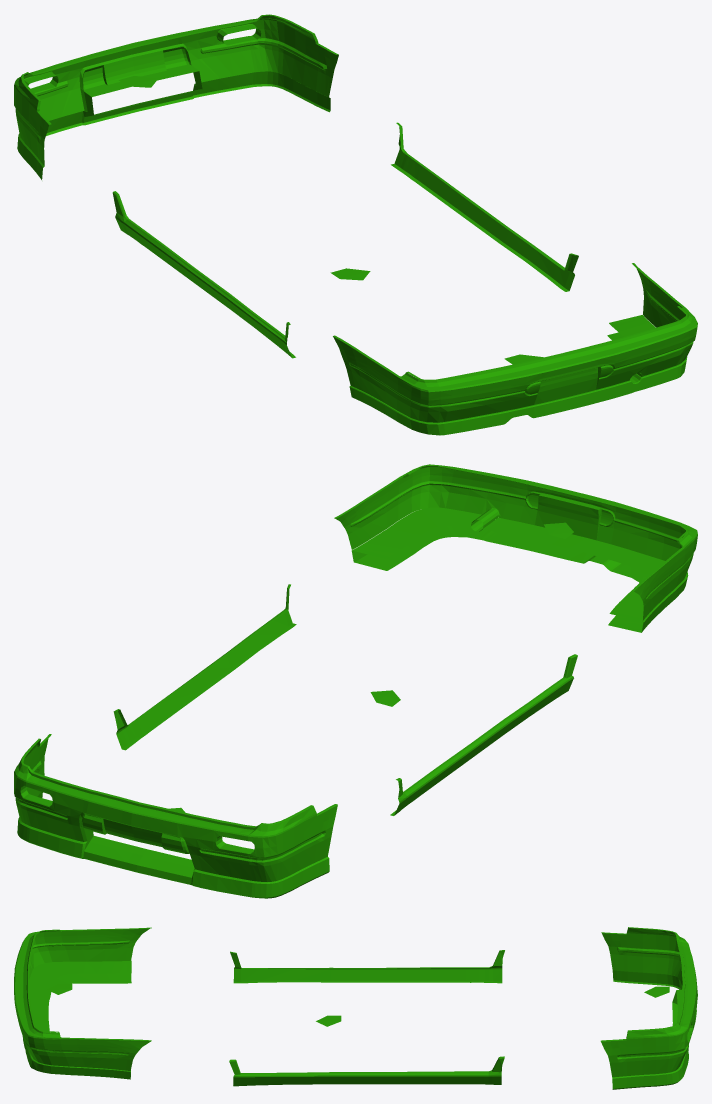
The picture shows the model from 3 angles, top to bottom: view 1: azimuth 30°, elevation 25°; view 2: azimuth 150°, elevation 25°; view 3: azimuth 270°, elevation 25°; orthographic projection. The views are drawn at different scales.
Visible parts, largest first — view 1: Mesh.030_Mesh.006_rbumper.001_g13m1.001, Mesh.062_Mesh.009_bump_f_g14m1.001, Mesh.016_Mesh.013_skirt.001_g12m1.001; view 2: Mesh.030_Mesh.006_rbumper.001_g13m1.001, Mesh.062_Mesh.009_bump_f_g14m1.001, Mesh.016_Mesh.013_skirt.001_g12m1.001; view 3: Mesh.030_Mesh.006_rbumper.001_g13m1.001, Mesh.062_Mesh.009_bump_f_g14m1.001, Mesh.016_Mesh.013_skirt.001_g12m1.001.
Boxes of the visible parts, x1=… form: Mesh.030_Mesh.006_rbumper.001_g13m1.001: x1=333, y1=263, x2=697, y2=435; Mesh.062_Mesh.009_bump_f_g14m1.001: x1=14, y1=14, x2=338, y2=179; Mesh.016_Mesh.013_skirt.001_g12m1.001: x1=112, y1=122, x2=578, y2=358; Mesh.030_Mesh.006_rbumper.001_g13m1.001: x1=334, y1=464, x2=697, y2=632; Mesh.062_Mesh.009_bump_f_g14m1.001: x1=14, y1=734, x2=337, y2=898; Mesh.016_Mesh.013_skirt.001_g12m1.001: x1=113, y1=584, x2=577, y2=815; Mesh.030_Mesh.006_rbumper.001_g13m1.001: x1=14, y1=927, x2=151, y2=1079; Mesh.062_Mesh.009_bump_f_g14m1.001: x1=600, y1=927, x2=697, y2=1089; Mesh.016_Mesh.013_skirt.001_g12m1.001: x1=229, y1=950, x2=504, y2=1086.
Bounding box in the file's own units: 1.97 × 0.4568 × 5.
